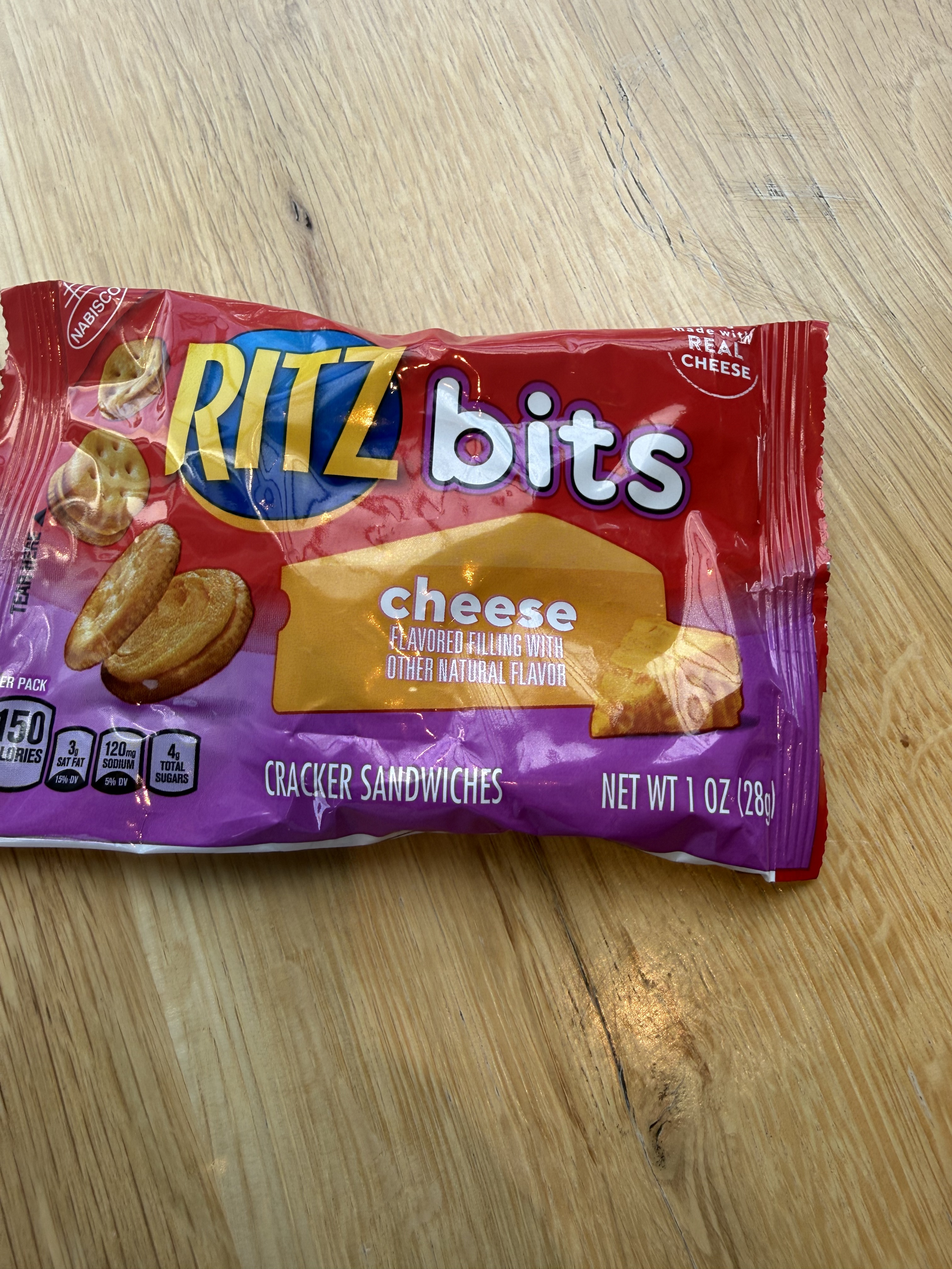ritz_cheese: (0, 284, 818, 876)
